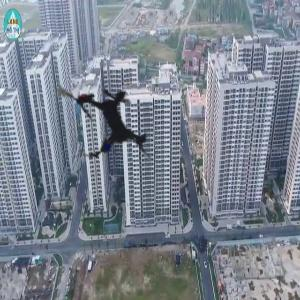drone: (23, 36, 196, 209)
